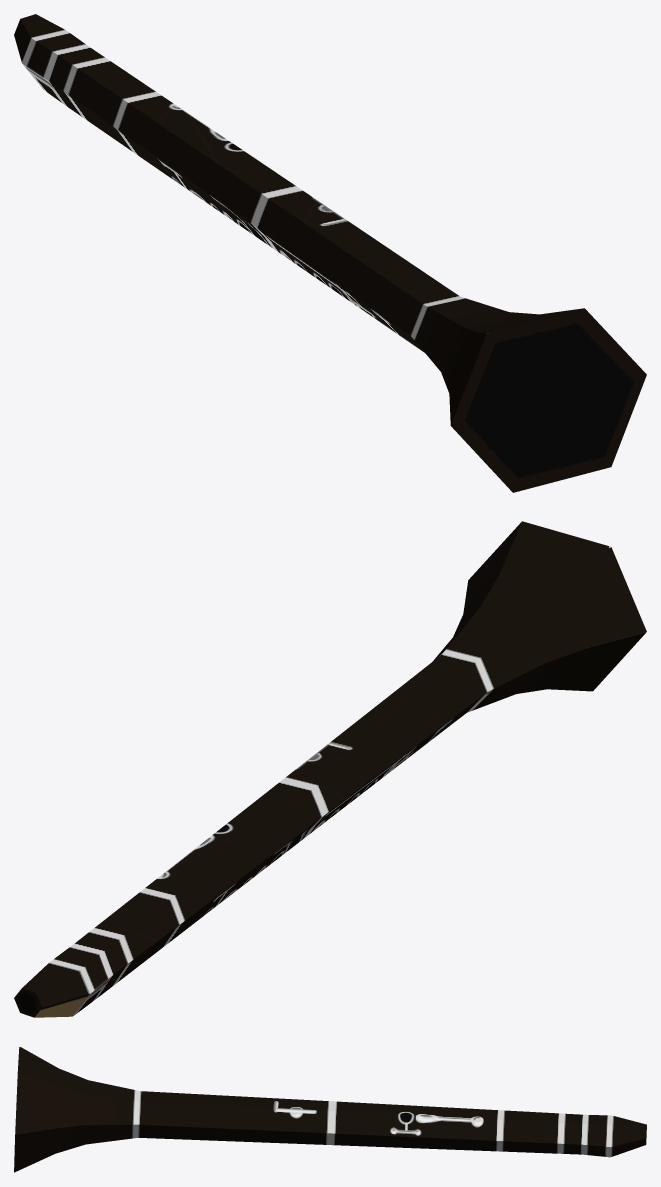
The model's file is Flauta3_000009.obj.
The picture shows the model from 3 angles, top to bottom: view 1: azimuth 30°, elevation 25°; view 2: azimuth 150°, elevation 25°; view 3: azimuth 270°, elevation 25°; orthographic projection. The views are drawn at different scales.
Parts seen in each view (by area): view 1: flauta3_f3_Flauta_3:Flauta_2:Flauta_1:pCylinder3; view 2: flauta3_f3_Flauta_3:Flauta_2:Flauta_1:pCylinder3; view 3: flauta3_f3_Flauta_3:Flauta_2:Flauta_1:pCylinder3.
Boxes of the visible parts, x1,y1,x2,y2 form: flauta3_f3_Flauta_3:Flauta_2:Flauta_1:pCylinder3: (14,14,646,492); flauta3_f3_Flauta_3:Flauta_2:Flauta_1:pCylinder3: (14,521,646,1017); flauta3_f3_Flauta_3:Flauta_2:Flauta_1:pCylinder3: (14,1046,646,1172).
Bounding box in the file's own units: 1.19 × 0.9727 × 5.81.
